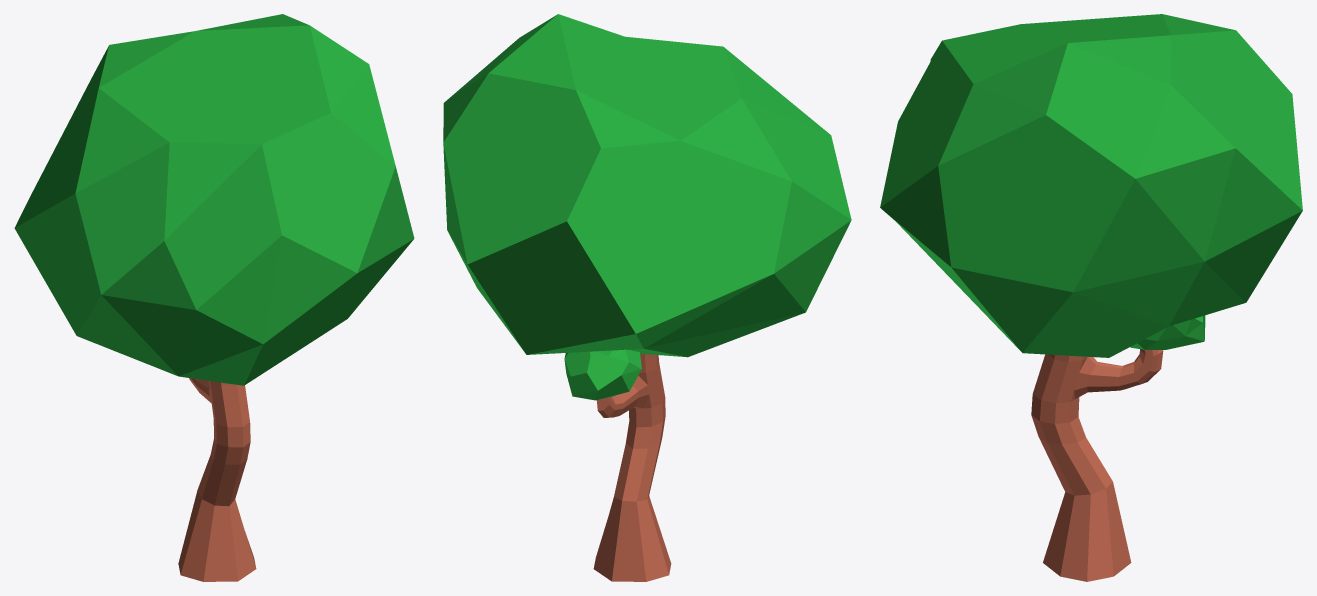
The model's file is TreeB.fbx.
3 renders of one model, left to right at view 1: azimuth 30°, elevation 25°; view 2: azimuth 150°, elevation 25°; view 3: azimuth 270°, elevation 25°, orthographic. The views are drawn at different scales.
Visible parts, largest first — view 1: Icosphere.004, Cube.014; view 2: Icosphere.004, Cube.014, Icosphere.005; view 3: Icosphere.004, Cube.014, Icosphere.005.
Boxes of the visible parts, bbox=[...] form: Icosphere.004: bbox=[14, 14, 414, 385]; Cube.014: bbox=[178, 378, 256, 581]; Icosphere.004: bbox=[443, 14, 851, 357]; Cube.014: bbox=[593, 353, 671, 581]; Icosphere.005: bbox=[564, 349, 641, 400]; Icosphere.004: bbox=[880, 14, 1302, 357]; Cube.014: bbox=[1031, 349, 1163, 581]; Icosphere.005: bbox=[1130, 315, 1205, 349].
Bounding box in the file's own units: 482 × 717 × 488.
